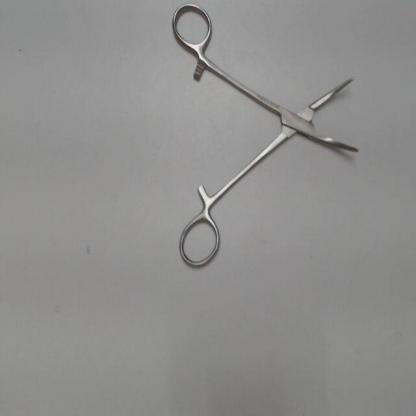Crile Artery Forceps: (166, 1, 368, 274)
